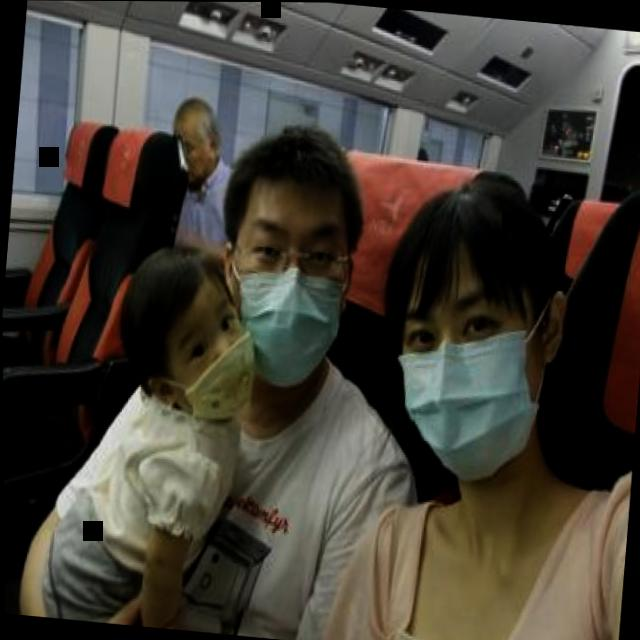Mask: (385, 277, 553, 489), (221, 194, 355, 392), (157, 285, 262, 424)
NO-Mask: (169, 120, 216, 189)
